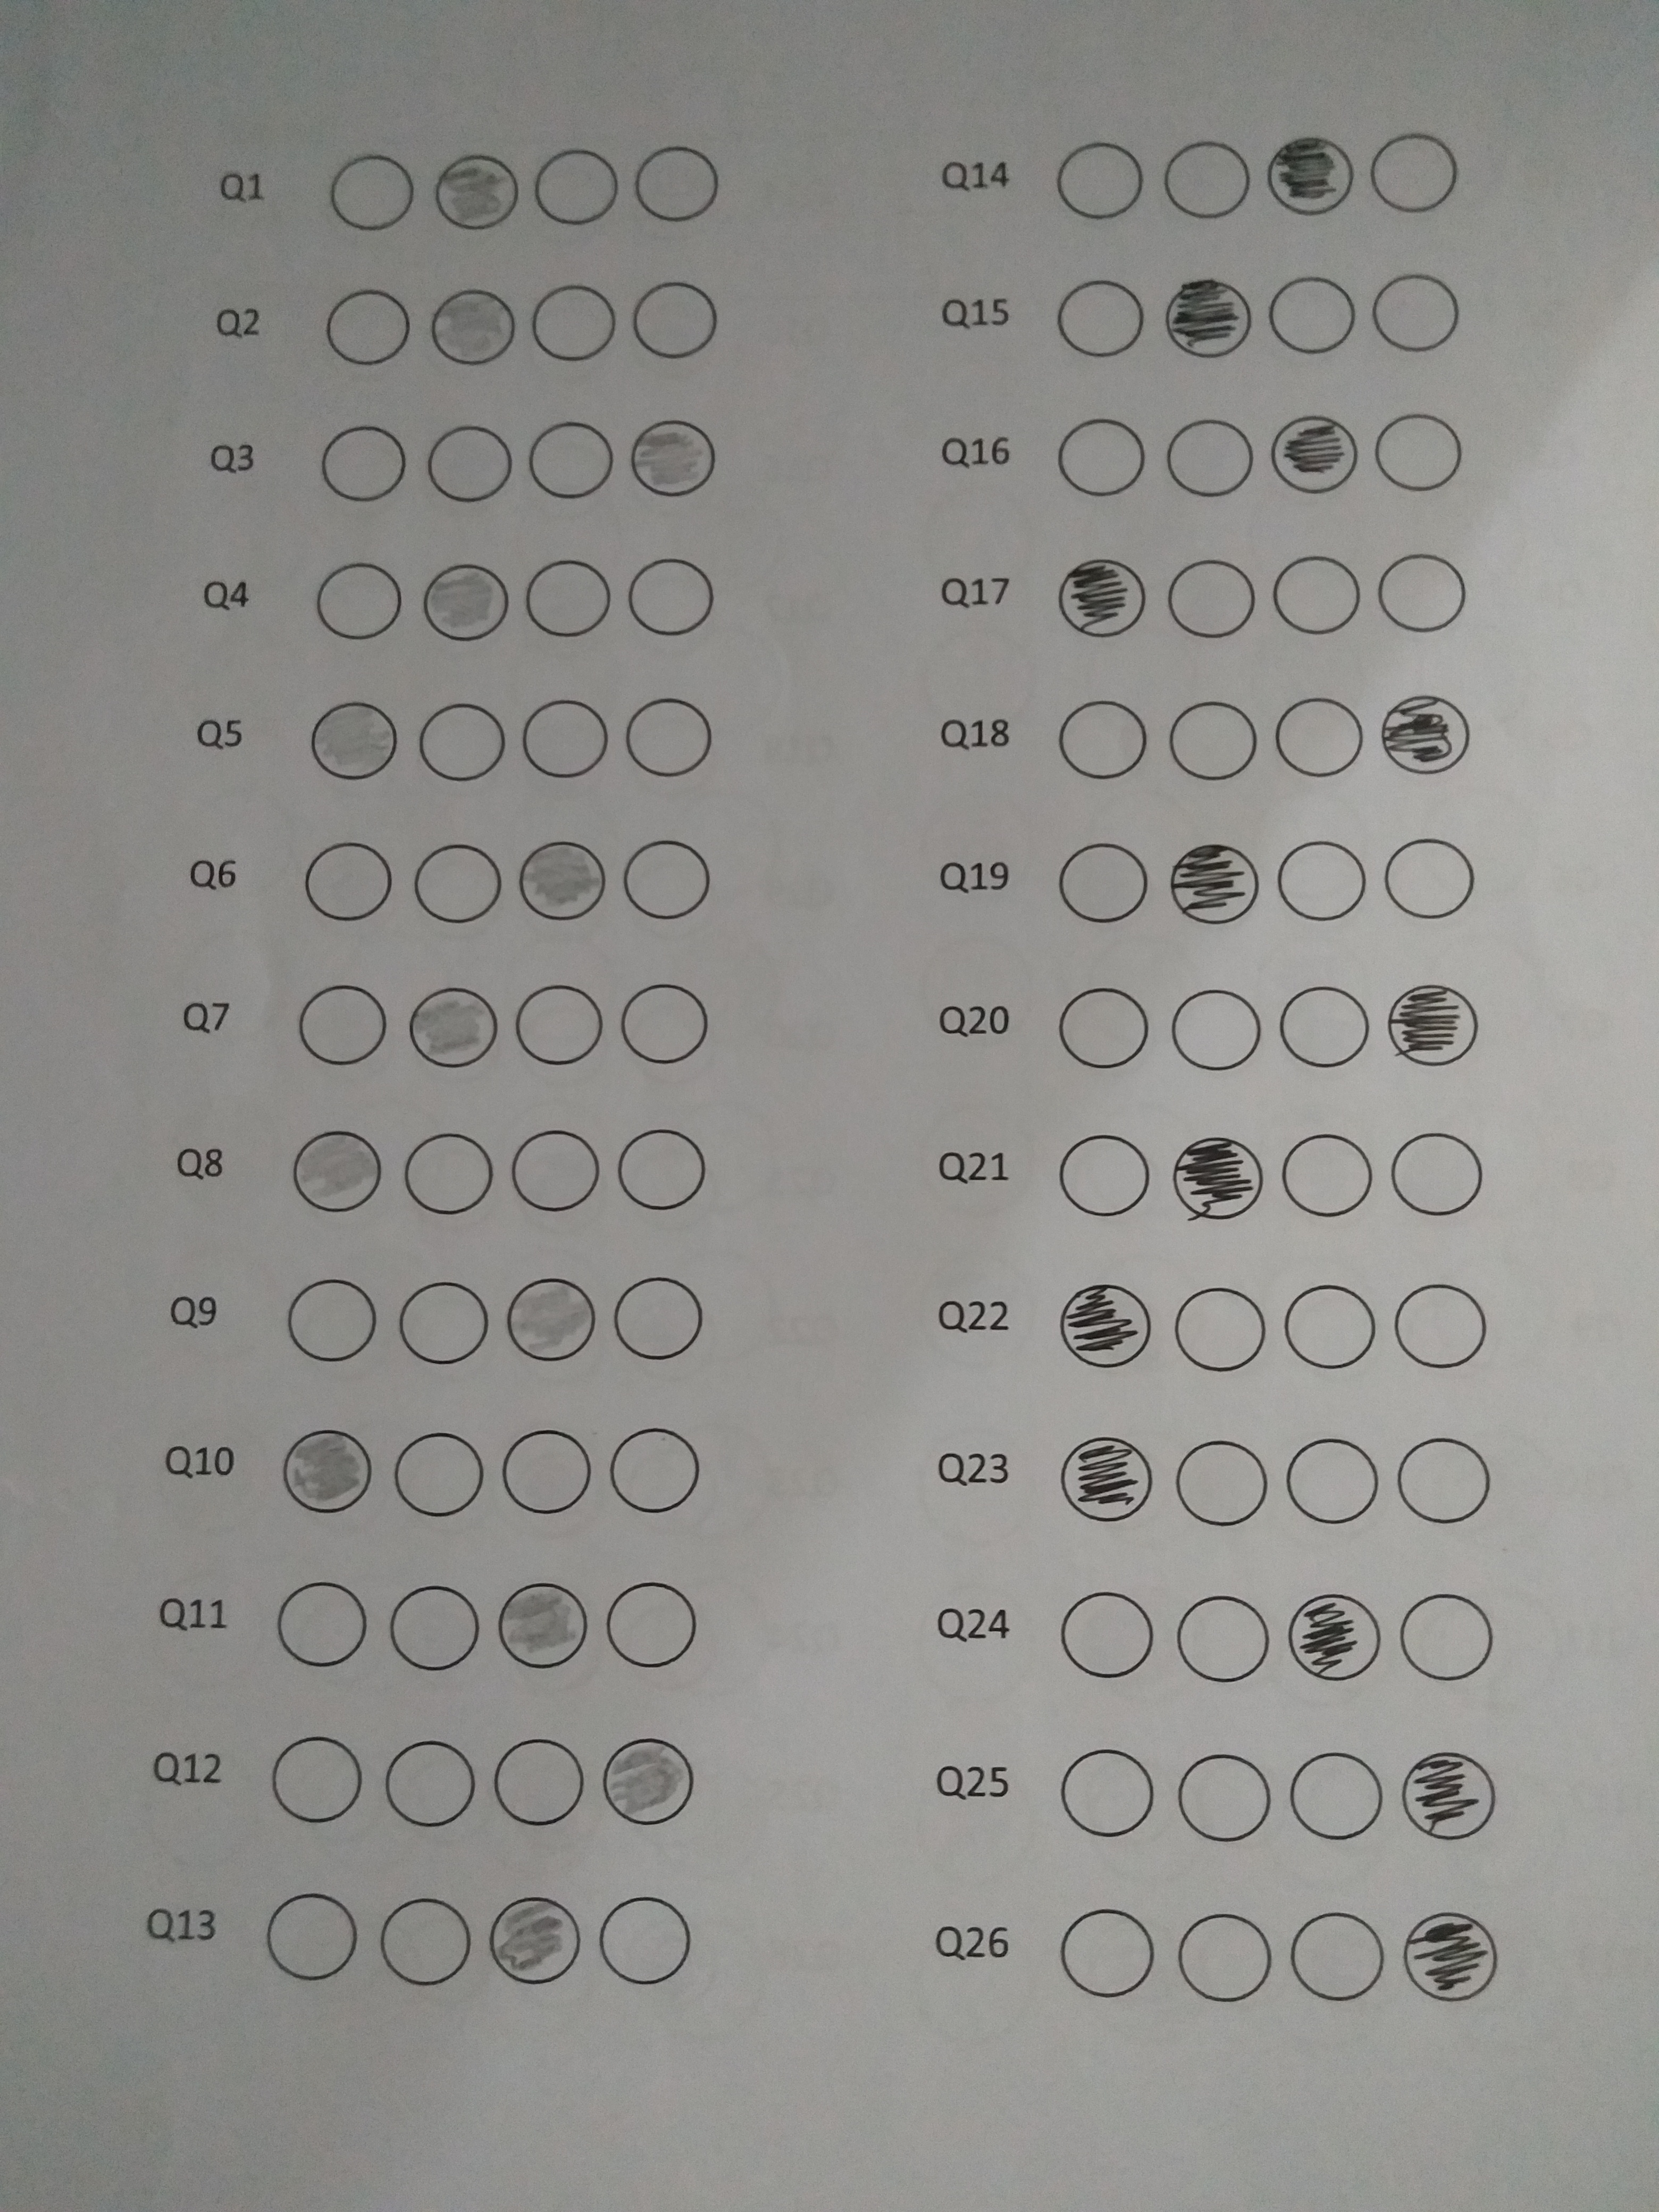not-c: (307, 554, 411, 651), (512, 686, 617, 784), (606, 1420, 711, 1517), (322, 145, 425, 242), (532, 277, 634, 374), (610, 1123, 713, 1221), (387, 1423, 490, 1521), (1288, 1747, 1391, 1844), (1284, 1907, 1387, 2005), (418, 420, 523, 516), (516, 554, 620, 650), (617, 552, 721, 648), (617, 975, 721, 1071), (509, 982, 613, 1078), (289, 975, 394, 1071), (509, 1125, 613, 1221), (608, 1273, 713, 1369), (279, 1271, 383, 1367), (493, 1423, 598, 1519), (599, 1571, 704, 1667), (267, 1730, 371, 1825), (1054, 1905, 1159, 2001), (525, 141, 627, 237), (629, 141, 732, 237), (631, 270, 734, 366), (321, 279, 423, 374), (312, 421, 415, 517), (519, 418, 622, 514), (408, 688, 511, 784), (403, 1127, 505, 1223), (390, 1275, 493, 1371), (380, 1580, 483, 1676), (268, 1575, 371, 1670), (380, 1735, 483, 1831), (490, 1737, 592, 1832), (256, 1890, 359, 1986), (366, 1893, 469, 1989), (591, 1892, 694, 1987), (1056, 1742, 1159, 1838), (1173, 1752, 1276, 1848), (1176, 1907, 1279, 2003), (1358, 270, 1459, 357), (1046, 840, 1147, 927), (1389, 1130, 1490, 1217), (401, 843, 502, 928), (295, 838, 396, 923), (1361, 132, 1462, 218), (1262, 275, 1363, 361), (1044, 279, 1145, 364), (1049, 415, 1150, 500), (1373, 552, 1474, 637), (1263, 552, 1364, 637), (1162, 556, 1263, 641), (1161, 705, 1262, 791), (1274, 691, 1375, 777), (1384, 834, 1485, 920), (1274, 840, 1375, 925), (1058, 986, 1159, 1071), (1161, 988, 1262, 1073), (1274, 982, 1375, 1068), (1283, 1136, 1384, 1221), (1175, 1442, 1276, 1527), (1051, 1588, 1152, 1674), (1171, 1599, 1272, 1684), (1396, 1594, 1497, 1679), (620, 695, 720, 780), (622, 841, 721, 927), (1054, 143, 1154, 228), (1155, 136, 1255, 221), (1164, 416, 1263, 502), (1371, 411, 1471, 496), (1053, 697, 1152, 782), (1058, 1132, 1157, 1217), (1173, 1284, 1272, 1369), (1283, 1285, 1382, 1371), (1391, 1285, 1490, 1371), (1394, 1439, 1493, 1524), (1281, 1437, 1380, 1522)
taken-c: (502, 1271, 606, 1369), (490, 1575, 594, 1672), (274, 1423, 376, 1521), (1054, 1278, 1159, 1374), (284, 1125, 389, 1221), (1168, 1132, 1272, 1228), (596, 1733, 701, 1829), (483, 1895, 587, 1991), (1398, 1749, 1502, 1844), (399, 977, 502, 1073), (1166, 838, 1269, 934), (1382, 977, 1485, 1073), (1396, 1907, 1499, 2003), (1284, 1590, 1387, 1686), (1054, 1430, 1157, 1526), (423, 148, 526, 244), (512, 838, 610, 928), (1373, 691, 1473, 780), (1260, 129, 1361, 216), (1049, 554, 1148, 641), (619, 415, 718, 502), (425, 286, 525, 373), (1265, 413, 1364, 500), (1157, 273, 1256, 361), (415, 563, 514, 650), (305, 698, 406, 784)
